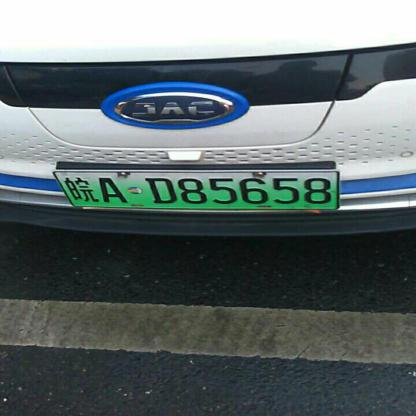lp: (54, 172, 72, 208)
